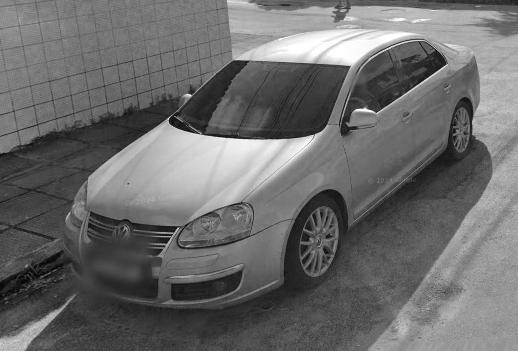car: (63, 24, 481, 314)
